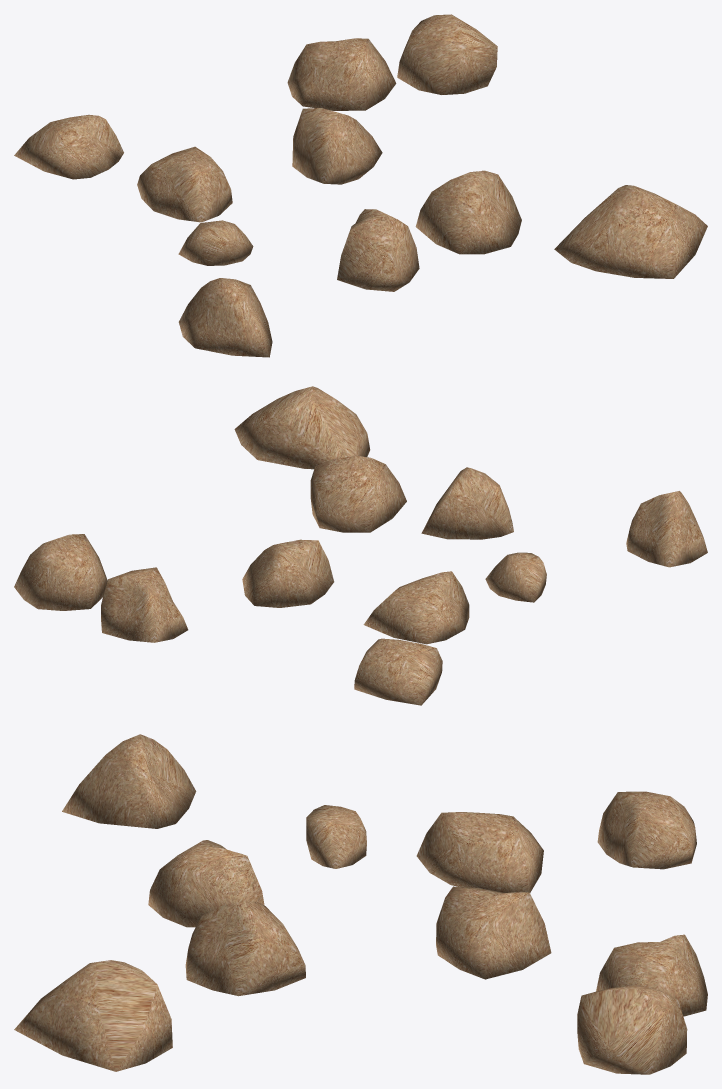
The model's file is rock_pebbleclump_a1_l0.fbx.
3 renders of one model, top to bottom at view 1: azimuth 30°, elevation 25°; view 2: azimuth 150°, elevation 25°; view 3: azimuth 270°, elevation 25°, orthographic. The views are drawn at different scales.
Parts seen in each view (by area): view 1: mesh_node; view 2: mesh_node; view 3: mesh_node.
Boxes of the visible parts, bbox=[...] form: mesh_node: bbox=[14, 14, 707, 357]; mesh_node: bbox=[14, 386, 707, 705]; mesh_node: bbox=[14, 734, 707, 1074].
Size of the model in its own units: 1.17 by 0.1361 by 1.18.
